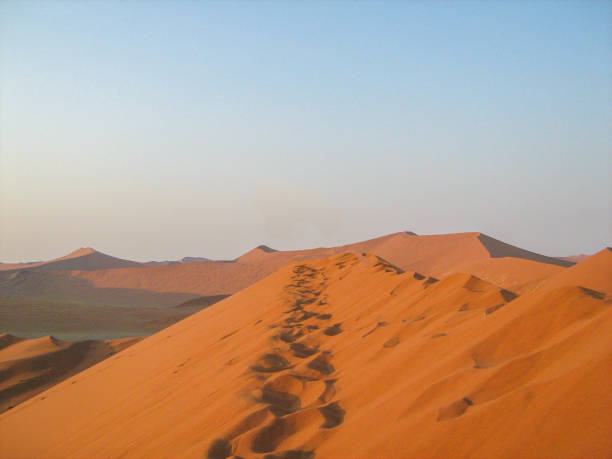human_footprint: (207, 264, 344, 458)
